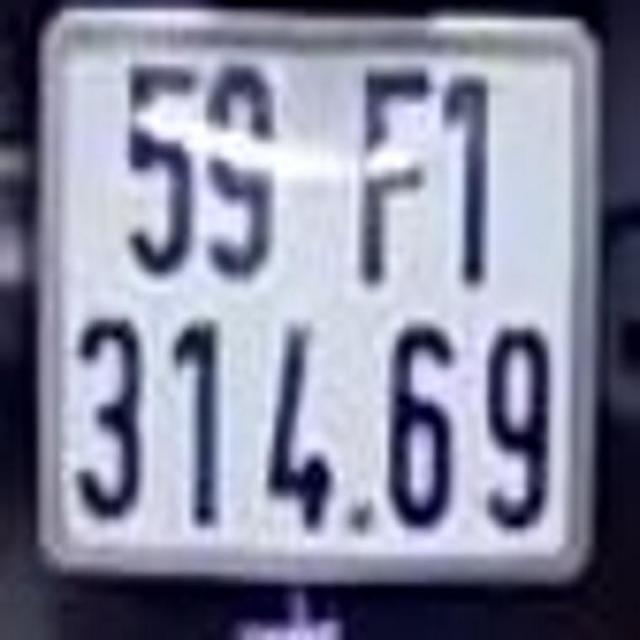1: (439, 62, 497, 286), (165, 315, 225, 527)
3: (73, 316, 144, 518)
4: (258, 308, 337, 534)
5: (119, 56, 196, 280)
6: (381, 311, 458, 531)
9: (205, 63, 283, 283), (482, 317, 553, 534)
F: (350, 59, 432, 287)
